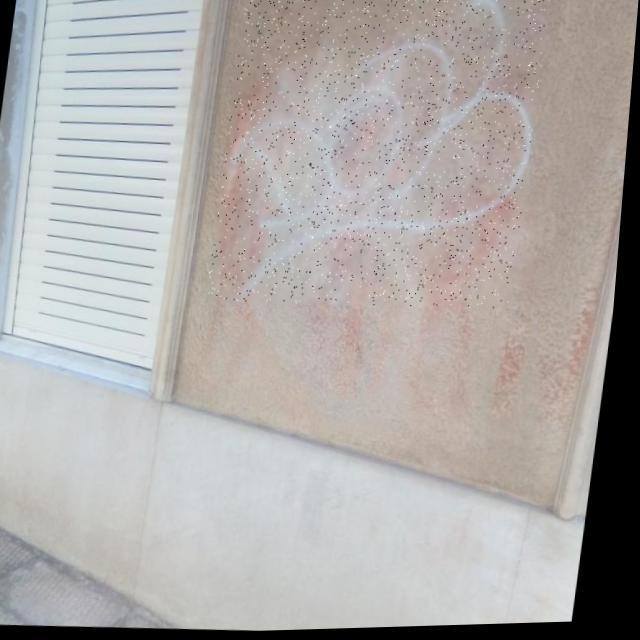-: (209, 0, 551, 319)
